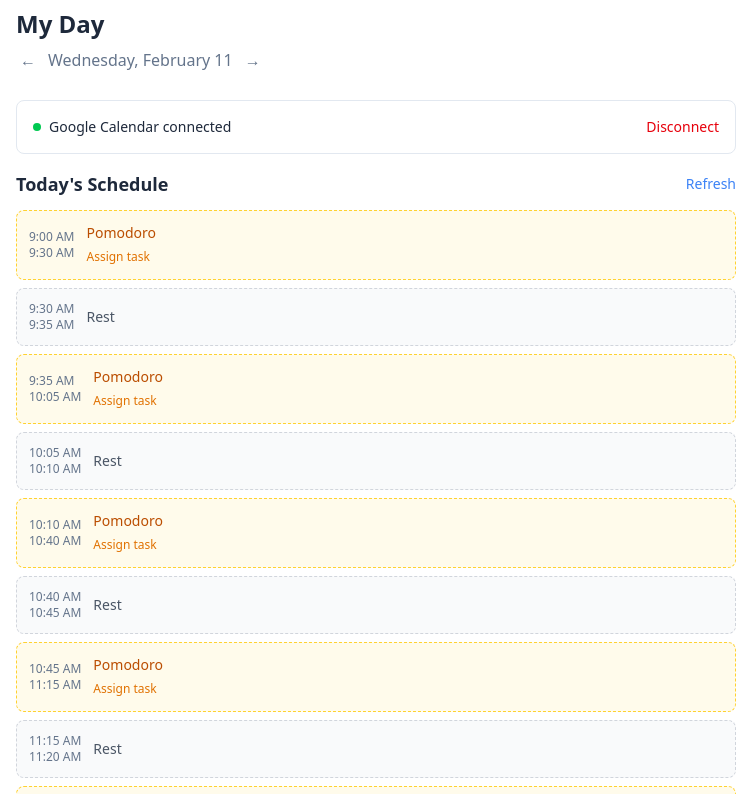
Test: MyDay view — Day Navigation › shows 'Tomorrow' when clicking next day
What coordinates should you click on to do the following:
click the button named "next day"
I would click on:
 (253, 60)
Its box is left=241, top=44, right=265, bottom=76.
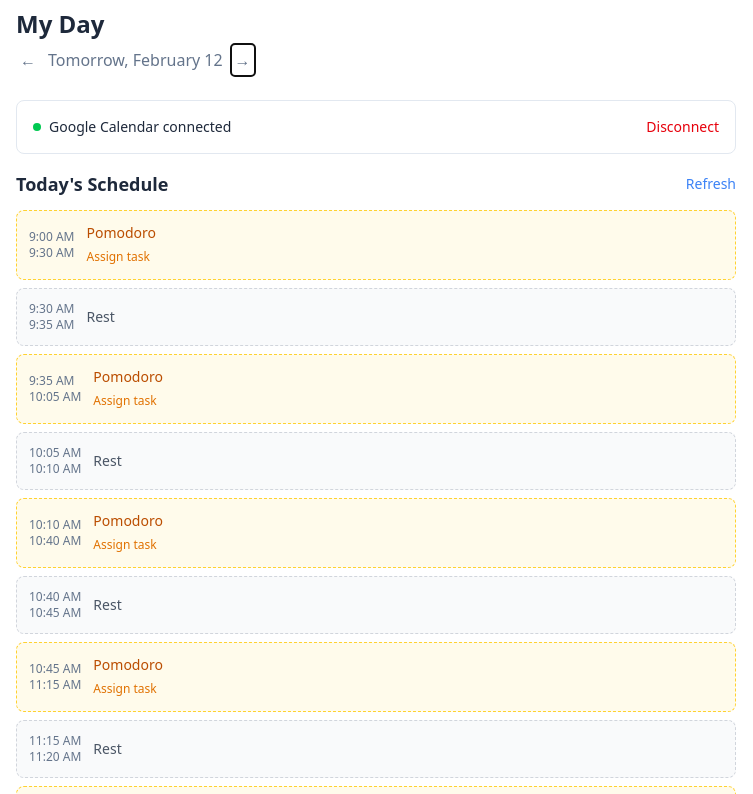
Result: the text "Tomorrow, February 12" is shown at left=48, top=48, right=223, bottom=72
